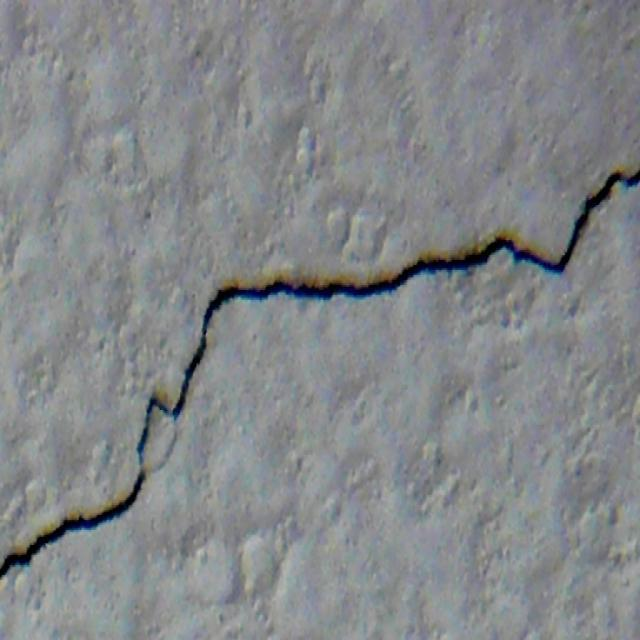Annular: (129, 395, 196, 482)
Diagonal: (171, 170, 640, 390), (0, 477, 148, 583)
